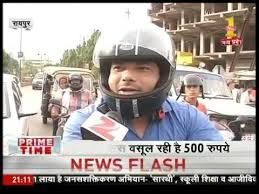helmet: (91, 18, 175, 120), (180, 74, 203, 98), (67, 71, 85, 90)
